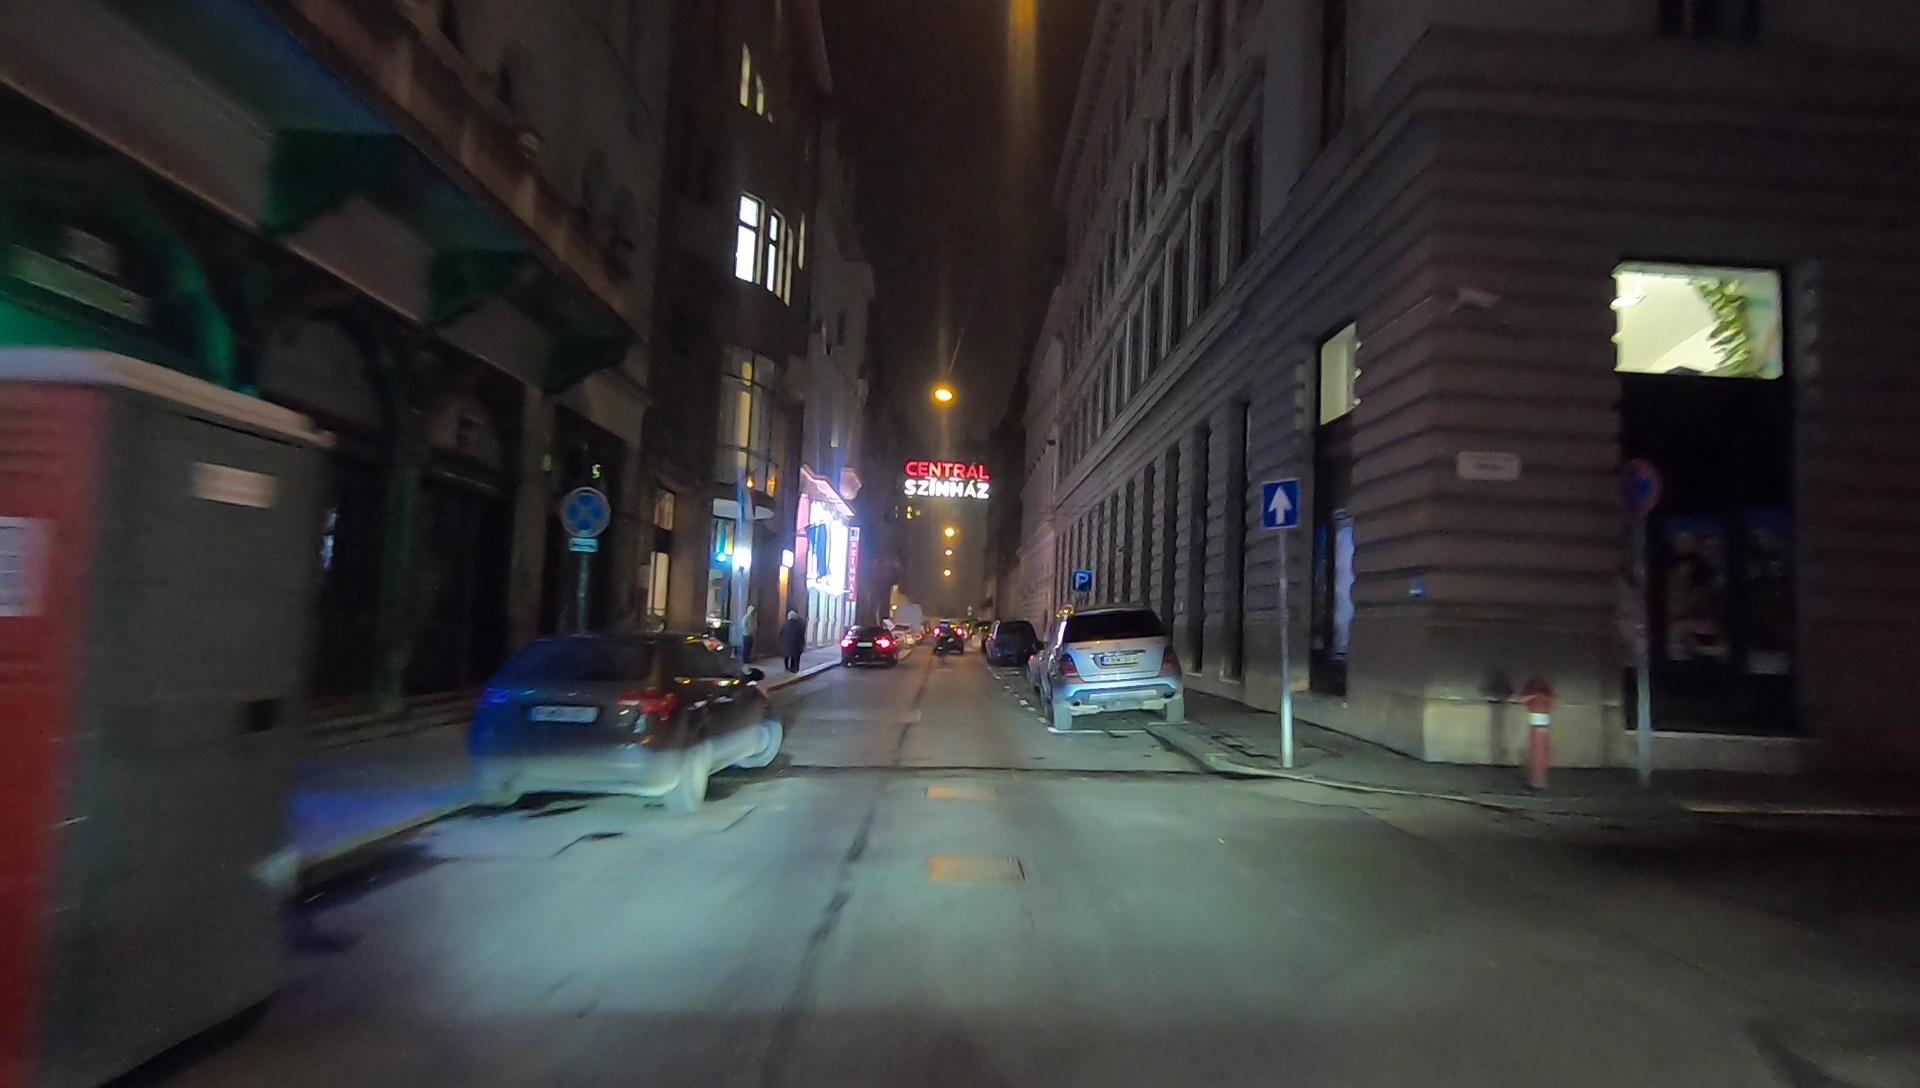person: (784, 606, 810, 673), (741, 604, 756, 658)
